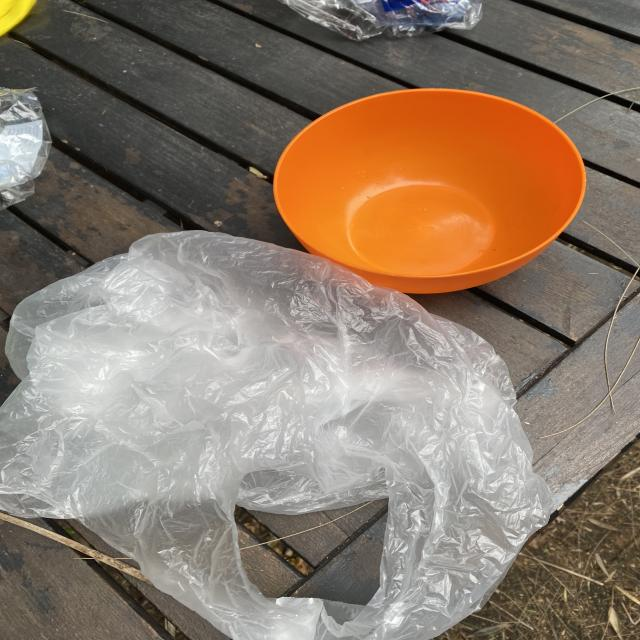bag: (0, 229, 550, 640)
bowl: (274, 88, 586, 294)
wrappers: (277, 0, 482, 40), (0, 85, 52, 211)
